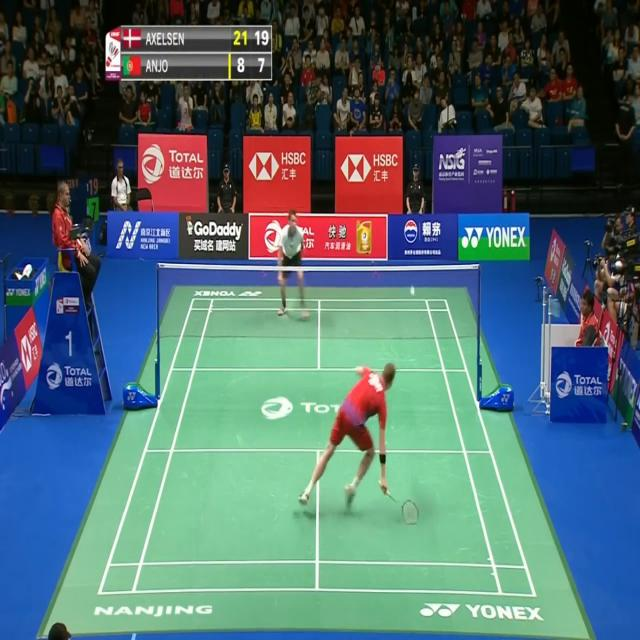Player1: (291, 352, 429, 540)
Player2: (274, 202, 313, 327)
